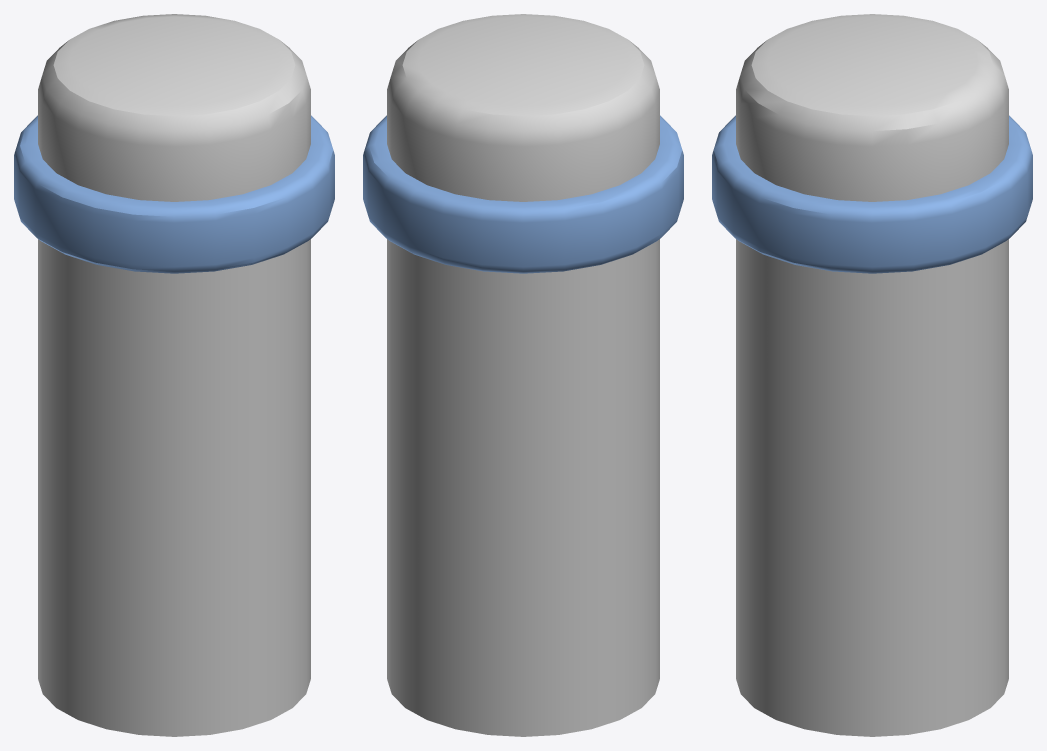
Rendered from bridge_foot.fbx.
3 renders of one model, left to right at view 1: azimuth 30°, elevation 25°; view 2: azimuth 150°, elevation 25°; view 3: azimuth 270°, elevation 25°, orthographic.
Visible parts, largest first — view 1: Cube.025; view 2: Cube.025; view 3: Cube.025.
Boxes of the visible parts, x1,y1,x2,y2 form: Cube.025: (14, 14, 334, 736); Cube.025: (363, 14, 683, 736); Cube.025: (712, 14, 1032, 736).
Size of the model in its own units: 0.4707 by 1 by 0.4707.
